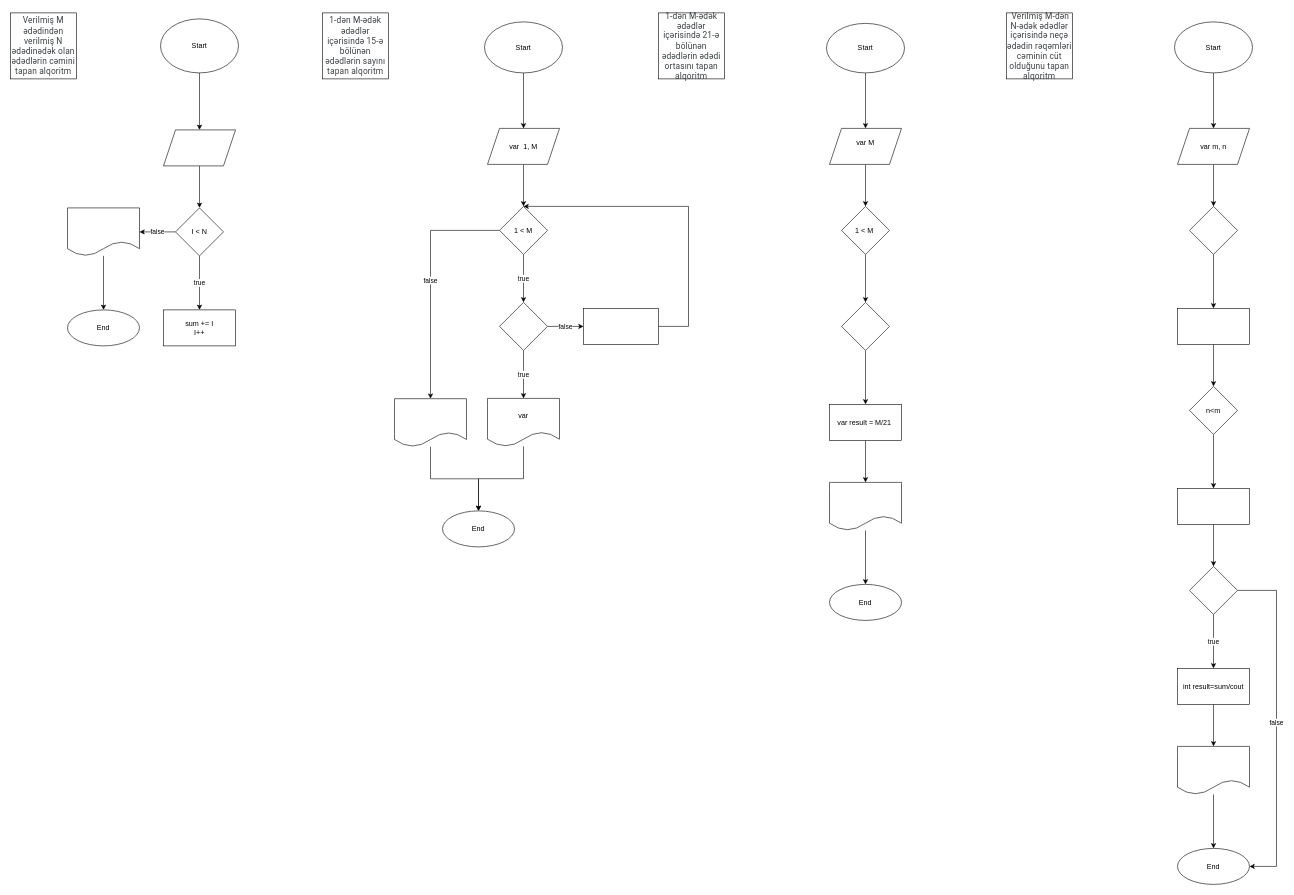
This 1294x895 diagram has some shape labels left out. Here are the shapes that lost their labels. From the top down, the centre of each, then its label:
At pixel 199 147: "var sum = 0 var I = M".
At pixel 103 231: "sum".
At pixel 1213 230: "m<n".
At pixel 523 326: "M%15==0".
At pixel 620 326: "M++".
At pixel 865 326: "M%21==0".
At pixel 1213 326: "sum+=n count++".
At pixel 430 422: "yoxdur".
At pixel 865 506: "21-ə bölünən ədədlərin ədədi ortası".
At pixel 1213 506: "sum+=m count++".
At pixel 1213 590: "sum+ count!=0".
At pixel 1213 770: "result".
